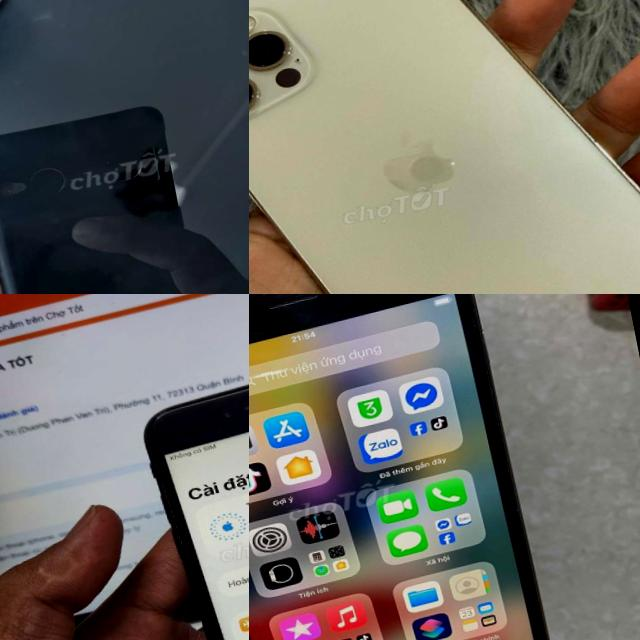gen_12_13: (249, 0, 640, 294)
gen_6: (249, 294, 547, 640)
gen_7_8: (0, 0, 249, 294), (127, 335, 249, 640)
